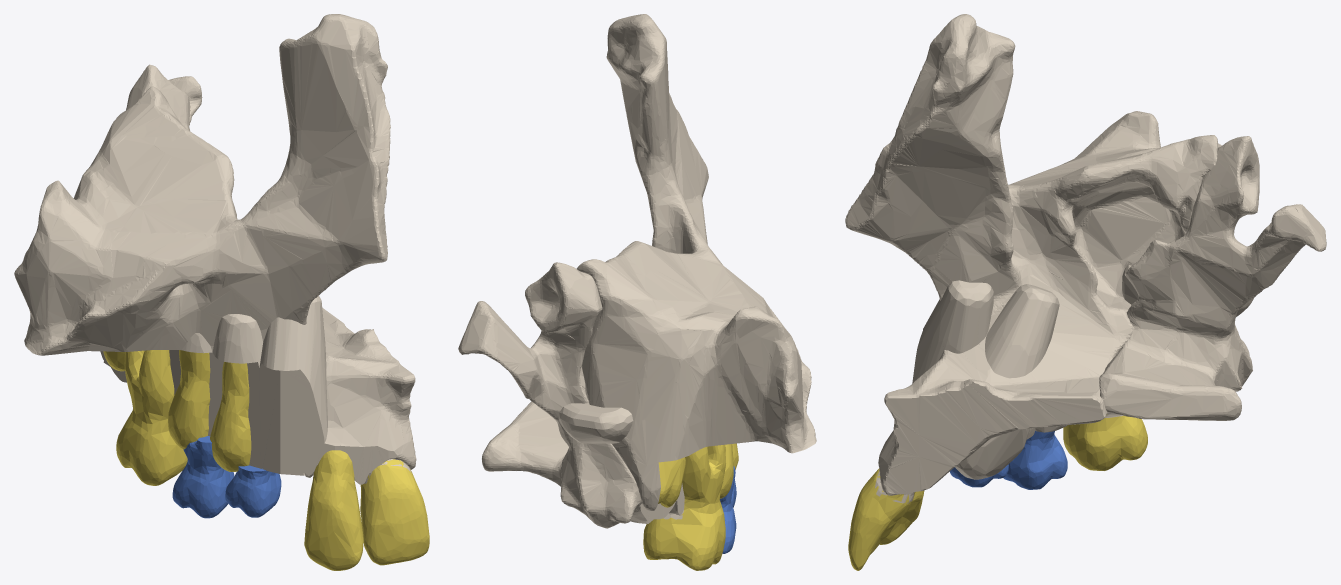
File: extracted.glb
The picture shows the model from 3 angles, left to right: view 1: azimuth 30°, elevation 25°; view 2: azimuth 150°, elevation 25°; view 3: azimuth 270°, elevation 25°; orthographic projection. The views are drawn at different scales.
Parts seen in each view (by area): view 1: bone, teeth, baby-teeth; view 2: bone, teeth, baby-teeth; view 3: bone, teeth, baby-teeth.
Part boxes in pixels (x1,y1,x2,y2): bone: (14,14,416,484); teeth: (103,350,429,570); baby-teeth: (172,436,281,518); bone: (458,14,816,528); teeth: (643,443,738,570); baby-teeth: (720,466,736,553); bone: (845,14,1326,503); teeth: (848,414,1147,570); baby-teeth: (949,431,1067,489).
Bounding box in the file's own units: 0.0451 × 0.0795 × 0.0637.
